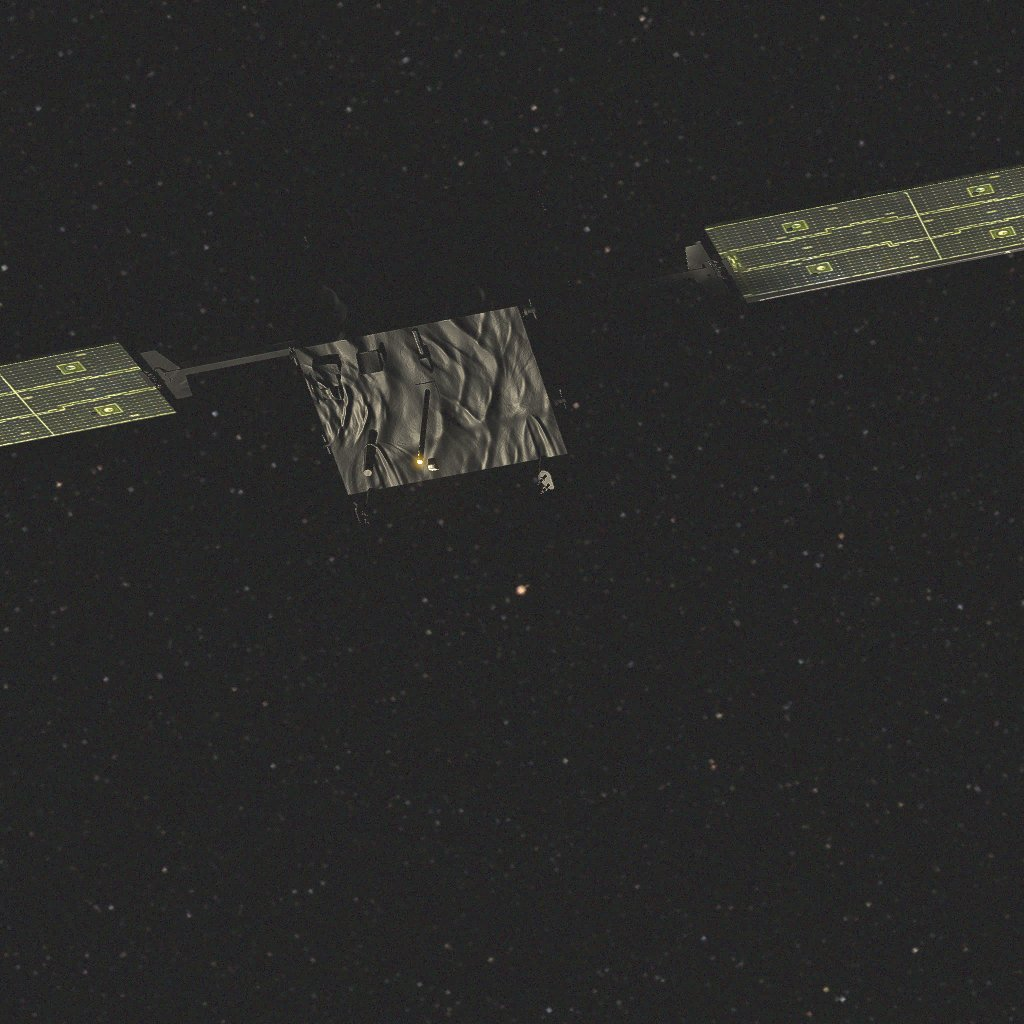smart_1: (0, 164, 1024, 525)
